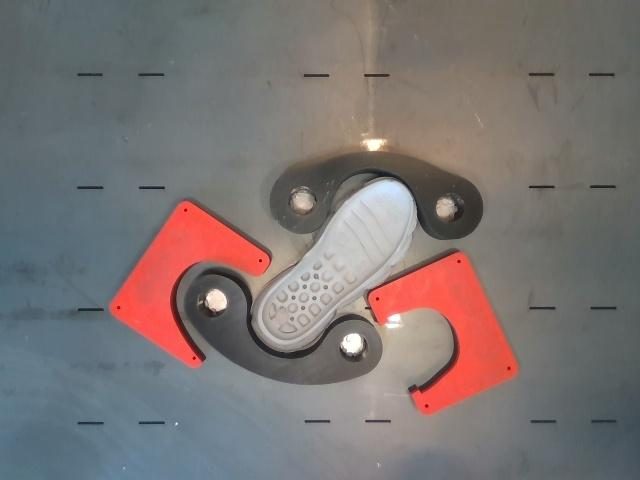shoes: (262, 181, 411, 341)
